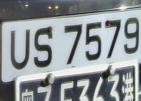5: (84, 19, 104, 66)
7: (61, 19, 85, 70), (104, 16, 125, 62)
9: (123, 13, 141, 61)
S: (31, 22, 55, 71)
U: (8, 25, 32, 73)
